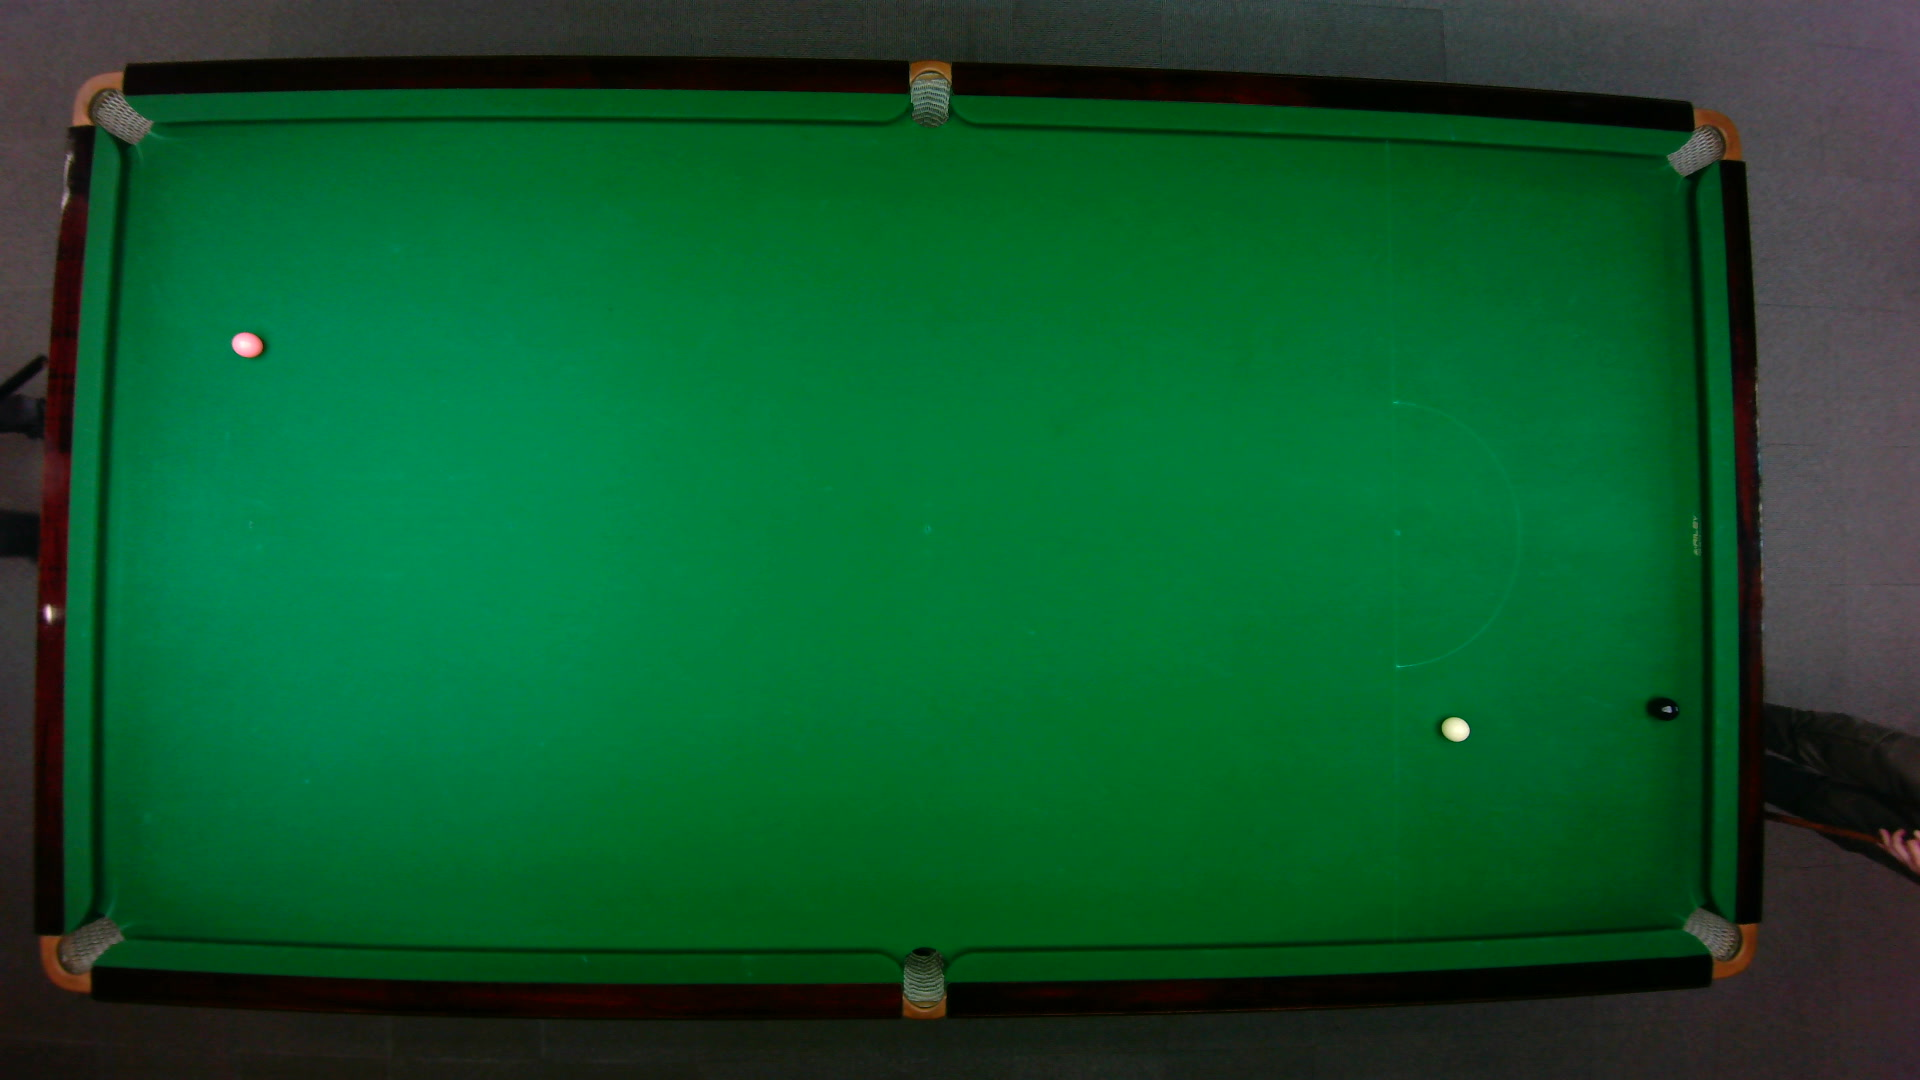bag: (37, 913, 125, 993), (69, 69, 152, 145), (1679, 905, 1756, 978), (1663, 107, 1742, 177), (901, 944, 944, 1021), (909, 57, 949, 128)
black: (1651, 696, 1679, 721)
pink: (228, 328, 265, 359)
white: (1439, 715, 1472, 742)
zone: (1390, 400, 1519, 669)
